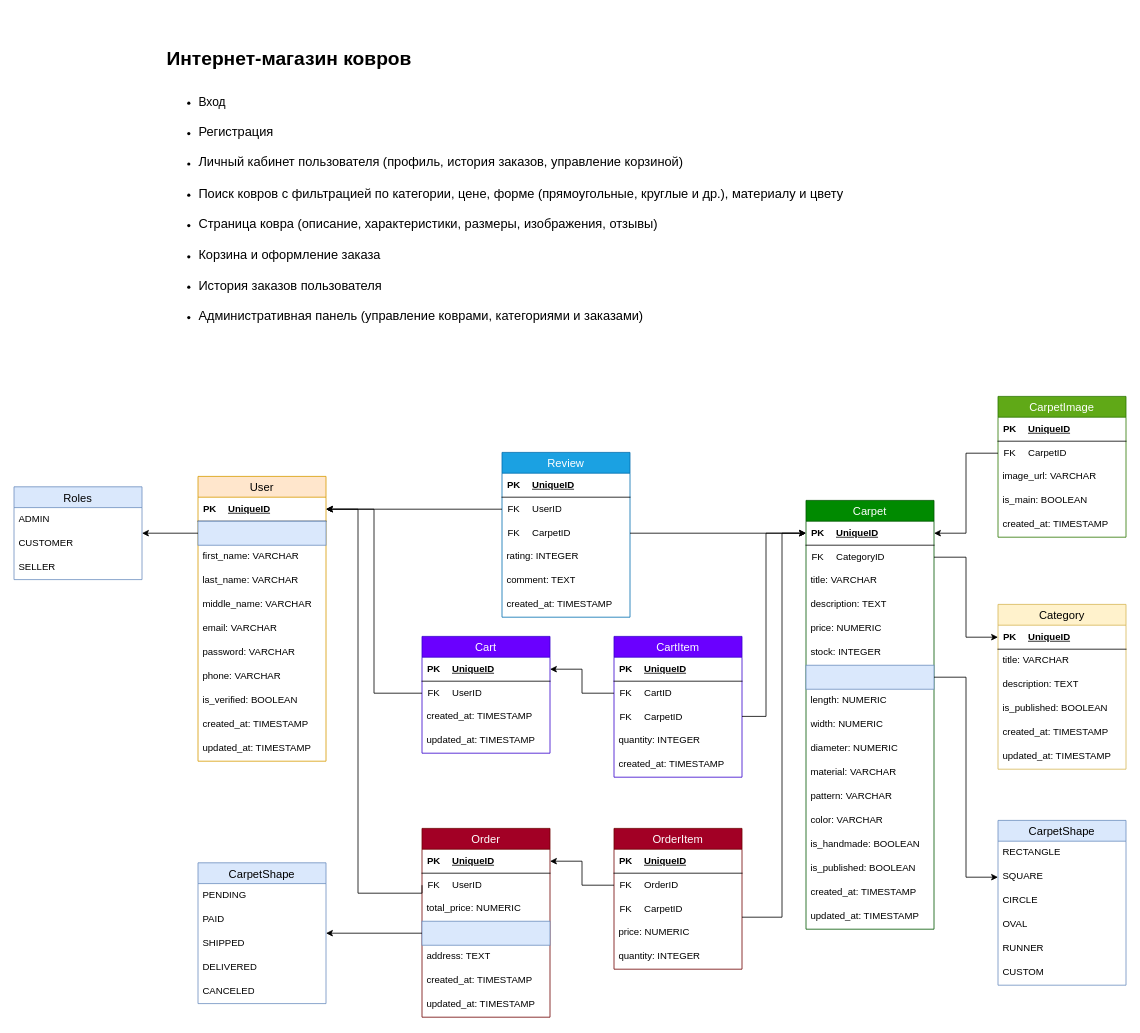
Image size: 1140x1033. Some labels were removed from this diagram. Each missing label, with the centre of its shape:
"role: ENUM" goes at [261,532].
"shape: ENUM" goes at [869,676].
"status: ENUM" goes at [485,932].
